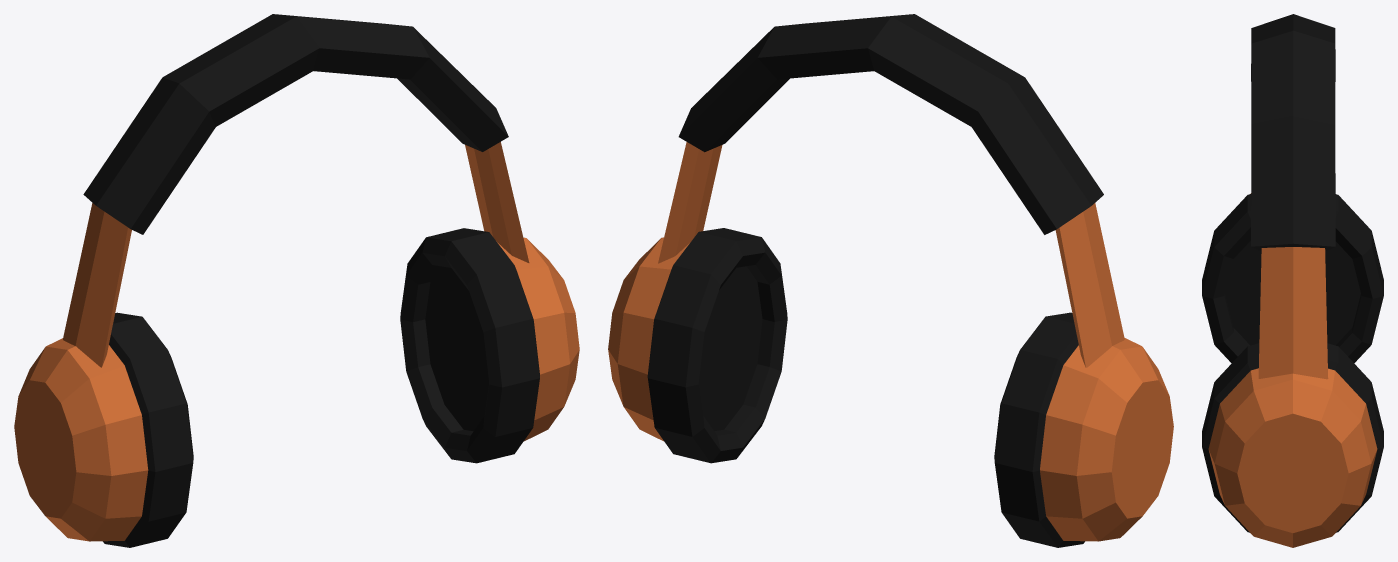
The model's file is headphones.obj.
3 renders of one model, left to right at view 1: azimuth 30°, elevation 25°; view 2: azimuth 150°, elevation 25°; view 3: azimuth 270°, elevation 25°, orthographic. The views are drawn at different scales.
Parts seen in each view (by area): view 1: headphones; view 2: headphones; view 3: headphones.
Part boxes in pixels (<box>): headphones: <box>14,14,579,547</box>; headphones: <box>608,14,1173,547</box>; headphones: <box>1202,14,1383,547</box>.
Size of the model in its own units: 0.1331 by 0.1214 by 0.0465.
1 material, 1 textured.
